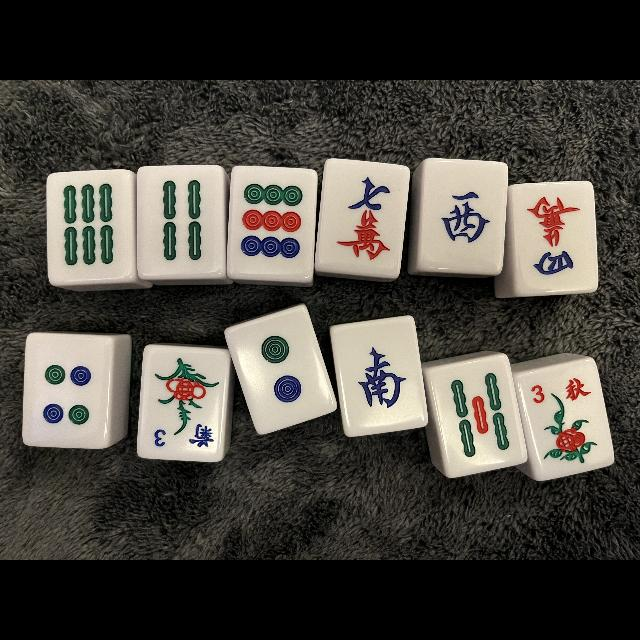b4: (140, 168, 222, 274)
b5: (437, 362, 519, 464)
b6: (48, 172, 132, 280)
c4: (514, 183, 596, 293)
c7: (321, 163, 403, 271)
d2: (242, 315, 322, 425)
d4: (26, 337, 110, 445)
d9: (231, 168, 313, 274)
f3: (143, 420, 223, 458)
s3: (526, 365, 598, 407)
ws: (340, 321, 418, 431)
ww: (422, 160, 503, 268)
